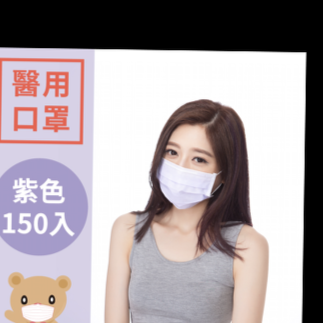with_mask: (155, 139, 223, 209)
